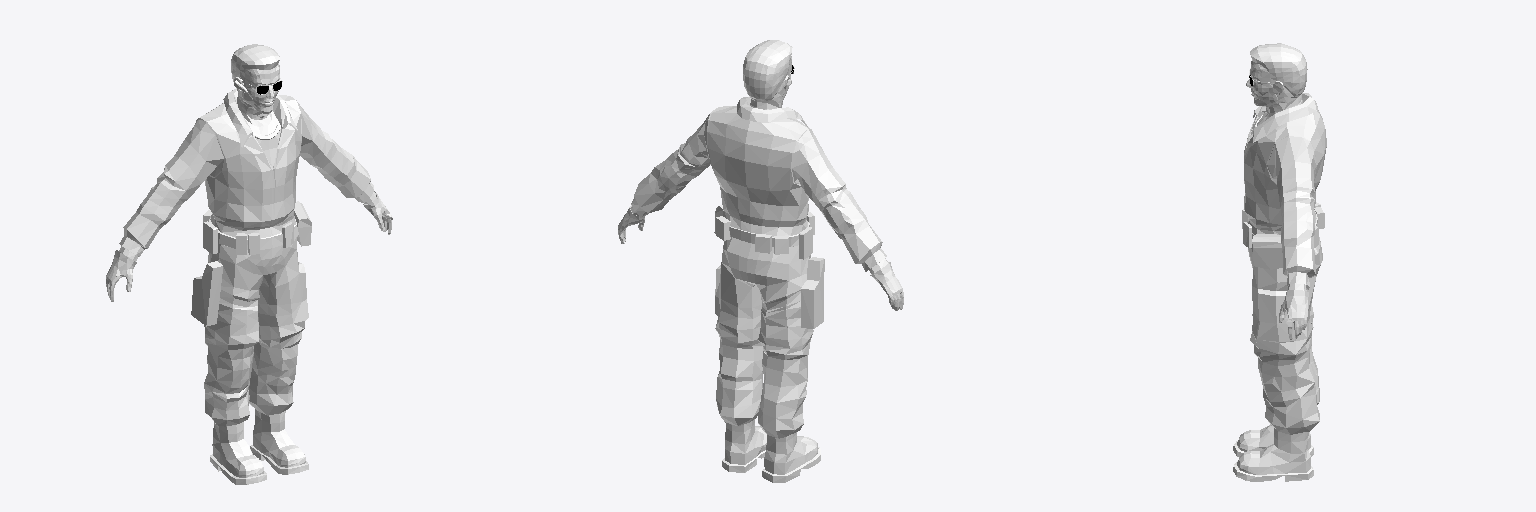
Rendered from harold_cameron.obj.
3 renders of one model, left to right at view 1: azimuth 30°, elevation 25°; view 2: azimuth 150°, elevation 25°; view 3: azimuth 270°, elevation 25°, orthographic.
Size of the model in its own units: 3.51 by 4.98 by 1.02.